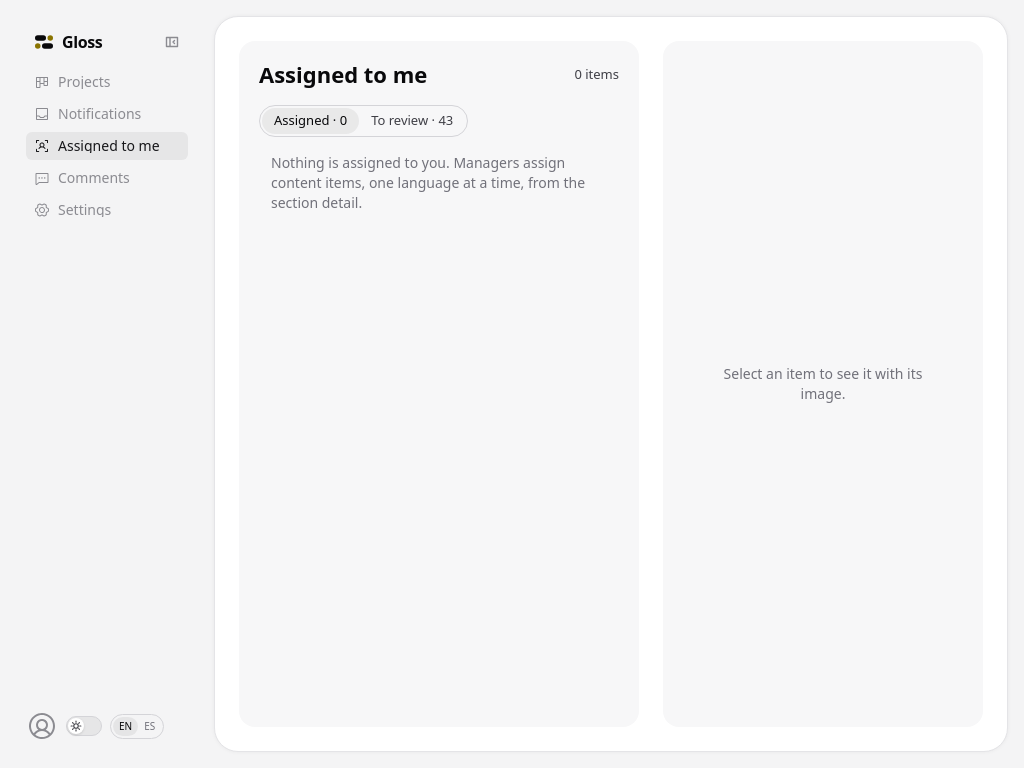
it: Assigned to me › lists a worker's items by project priority, without the review tab
This screenshot has width=1024, height=768.
Expected: the heading "Assigned to me" is shown, [259,61,427,88]
Step 1. Click the button named "Open user menu" → [42, 726], box [26,710,58,742]
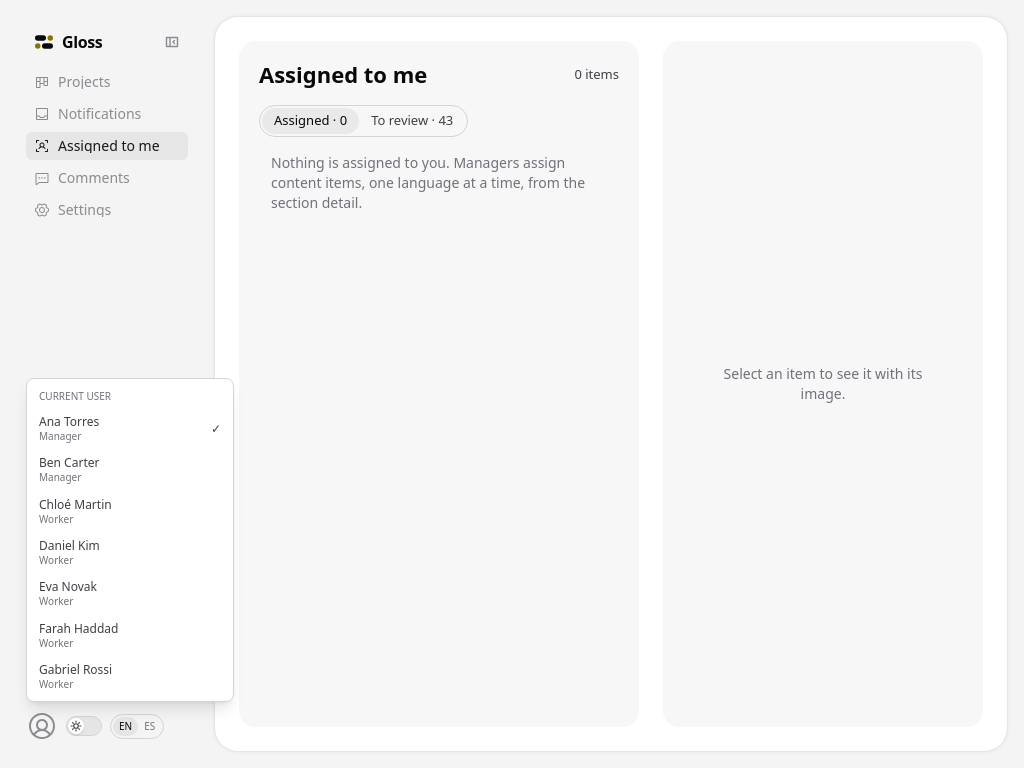
Step 2. Click the menu item "Chloé Martin Worker" → [75, 511], box [39,496,112,526]
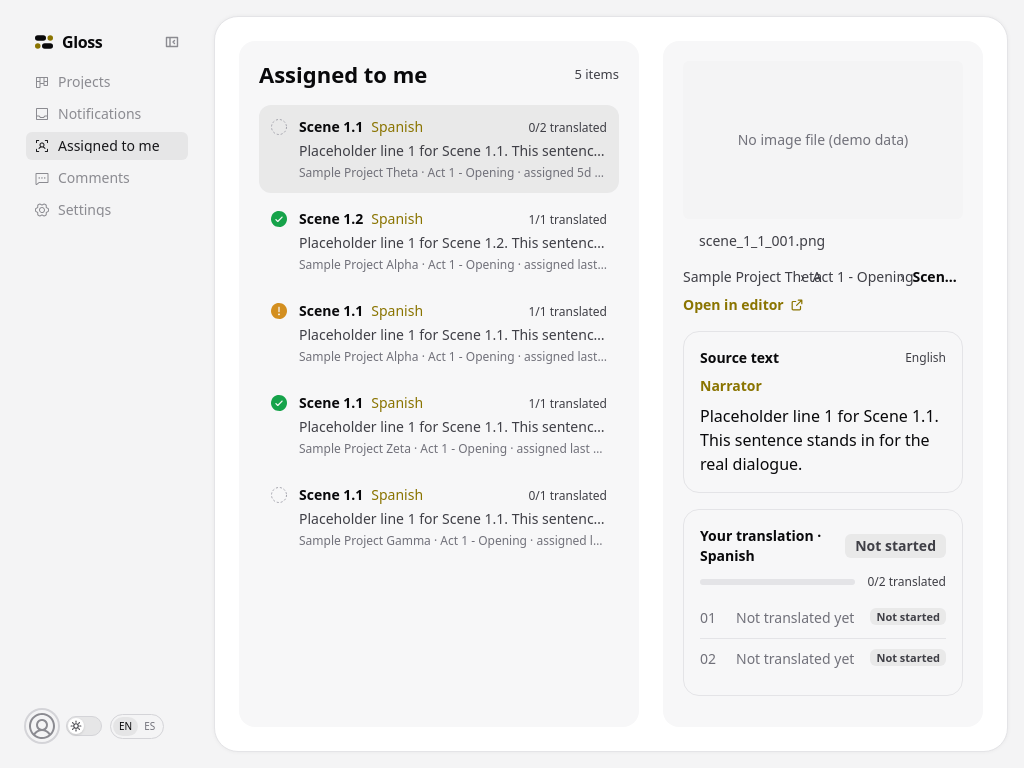
Result: the radio button labelled "To review" is gone
Result: the heading "Your translation · Spanish" is shown at [700,526,833,566]
